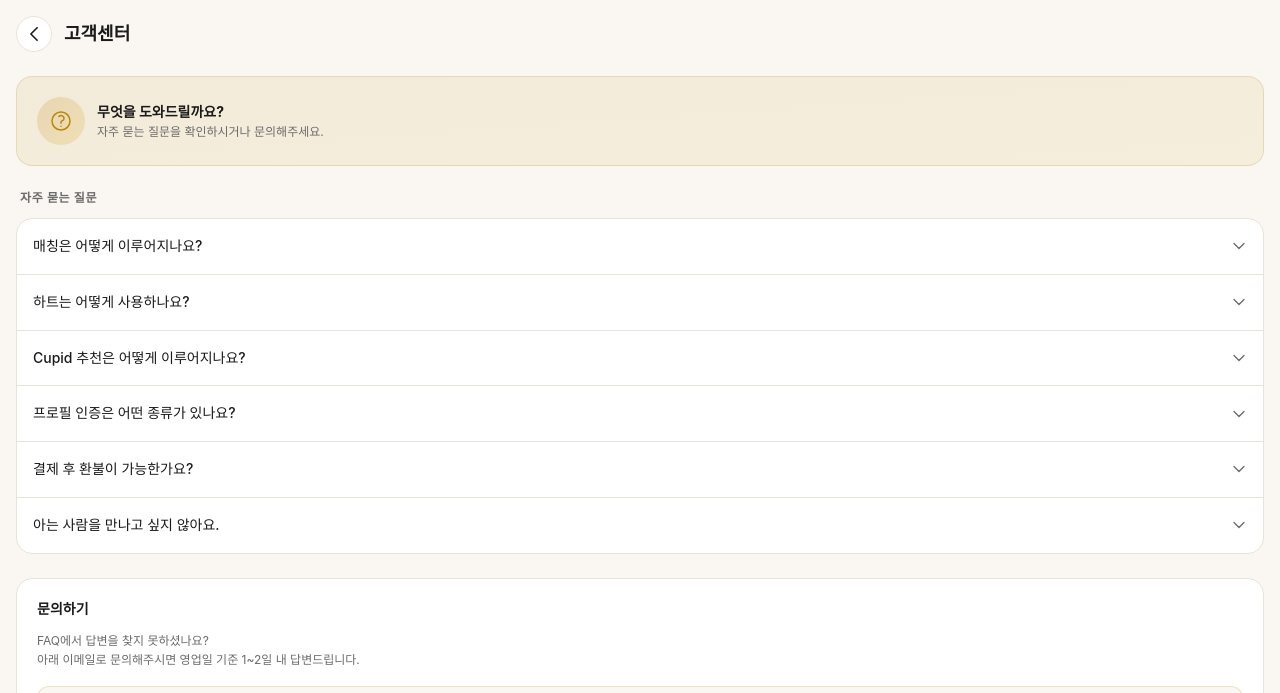
Test: 고객센터 정오 1회 추천 계약 › N-4-WEB-SUPPORT 정상 경로: 매칭 안내도 정오 한 분만 약속한다
Click the button "매칭은 어떻게 이루어지나요?". click: (118, 246)
box: [17,219,1263,274]
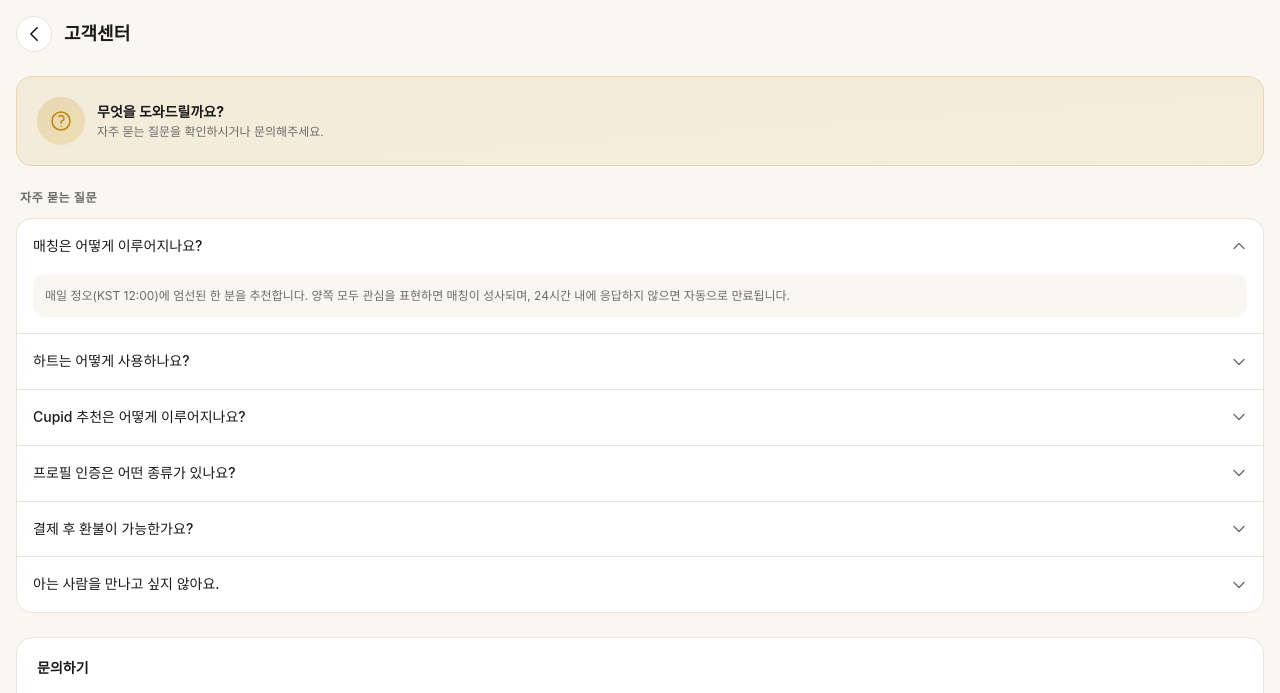
Check: the text "매일 정오(KST 12:00)에 엄선된 한 분" is shown, box [45,288,790,303]
